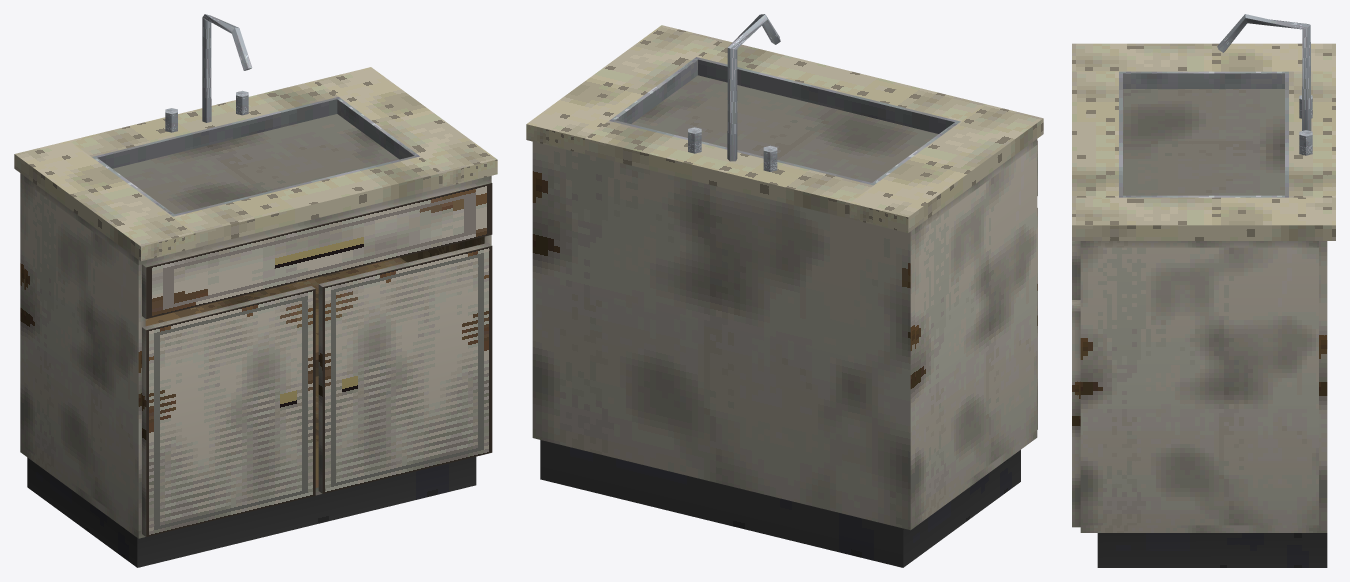
Rendered from sink_unit_white.glb.
3 views of the same model, side by side, from view 1: azimuth 30°, elevation 25°; view 2: azimuth 150°, elevation 25°; view 3: azimuth 270°, elevation 25° (orthographic). The views are drawn at different scales.
Visible parts, largest first — view 1: sink_unit_white, sink_unit_white_door; view 2: sink_unit_white; view 3: sink_unit_white.
Boxes of the visible parts, x1,y1,x2,y2 form: sink_unit_white: (14, 14, 497, 567); sink_unit_white_door: (142, 286, 315, 536); sink_unit_white: (526, 14, 1043, 567); sink_unit_white: (1072, 14, 1335, 567).
Bounding box in the file's own units: 1.01 × 1.21 × 0.62.
2 materials, 2 textured.
